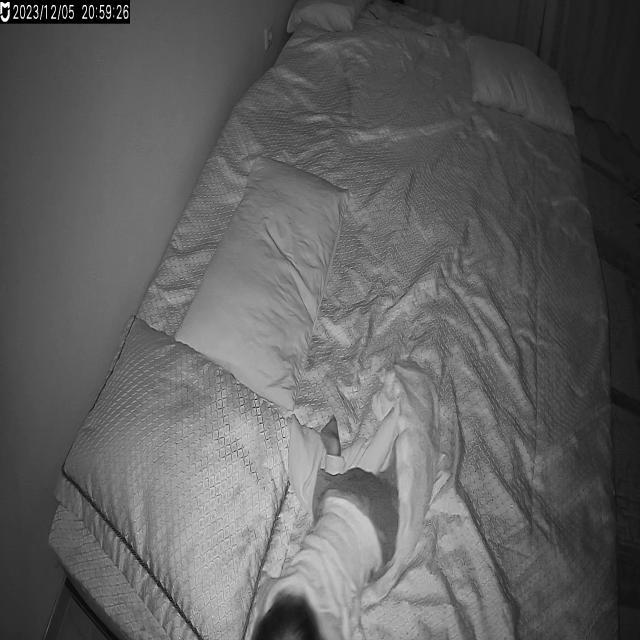baby: (234, 406, 415, 640)
